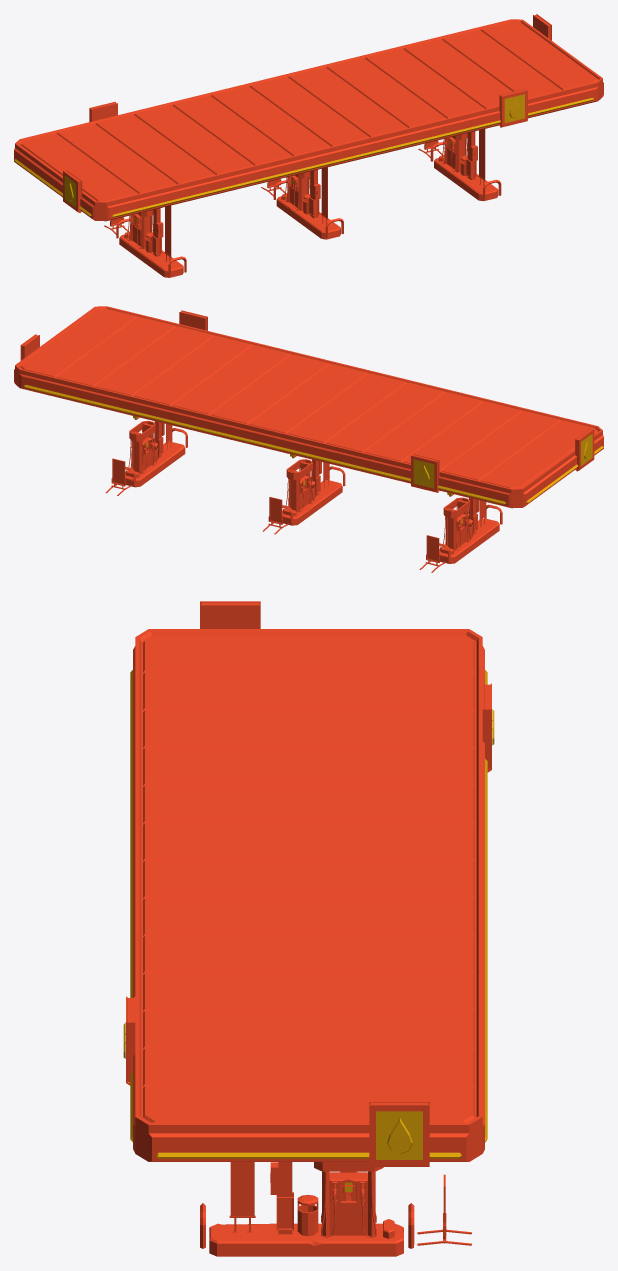
File: SM_Gas_Station_Terminals_City.fbx
3 renders of one model, top to bottom at view 1: azimuth 30°, elevation 25°; view 2: azimuth 150°, elevation 25°; view 3: azimuth 270°, elevation 25°, orthographic. The views are drawn at different scales.
Parts seen in each view (by area): view 1: SM_Gas_Station_Terminals_City; view 2: SM_Gas_Station_Terminals_City; view 3: SM_Gas_Station_Terminals_City.
Boxes of the visible parts, x1,y1,x2,y2 form: SM_Gas_Station_Terminals_City: [14, 14, 603, 277]; SM_Gas_Station_Terminals_City: [14, 306, 603, 572]; SM_Gas_Station_Terminals_City: [123, 601, 494, 1256].
Size of the model in its own units: 29.67 by 6.59 by 9.19.
